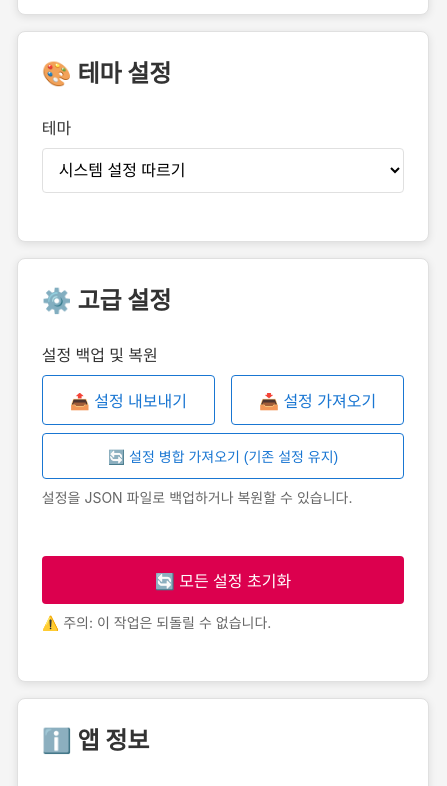
Task 4.3 SettingsView UI Functionality › Import/Export Functionality › should handle export failure
(page scrolled)
Click the button "📤 설정 내보내기" at (128, 400), box x1=42 y1=375 x2=215 y2=425
(page scrolled)
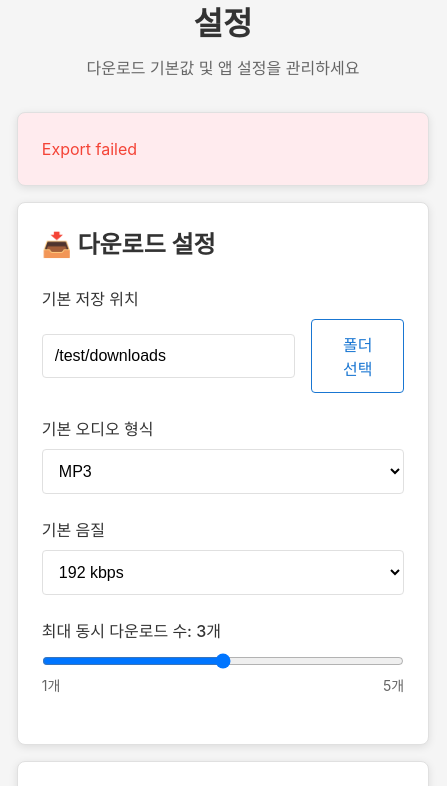
Now the text "Export failed" is shown, box x1=17 y1=112 x2=429 y2=186
